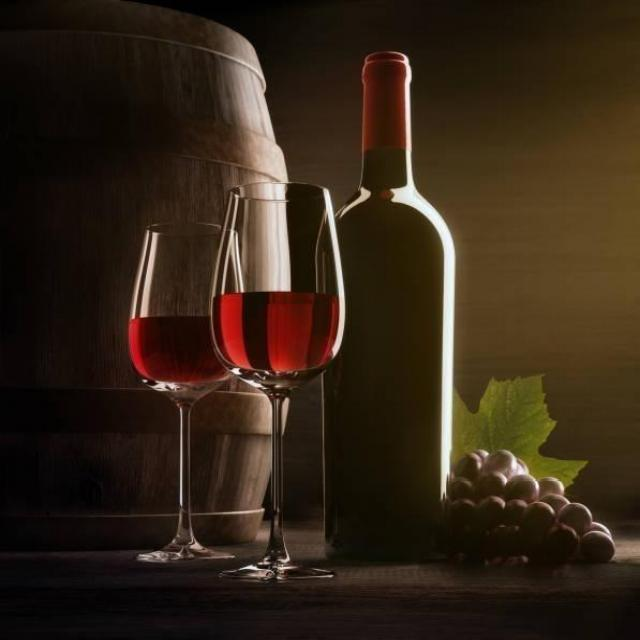bottle-glass: (319, 47, 460, 563)
glass-wine: (208, 180, 346, 582), (127, 220, 240, 564)
